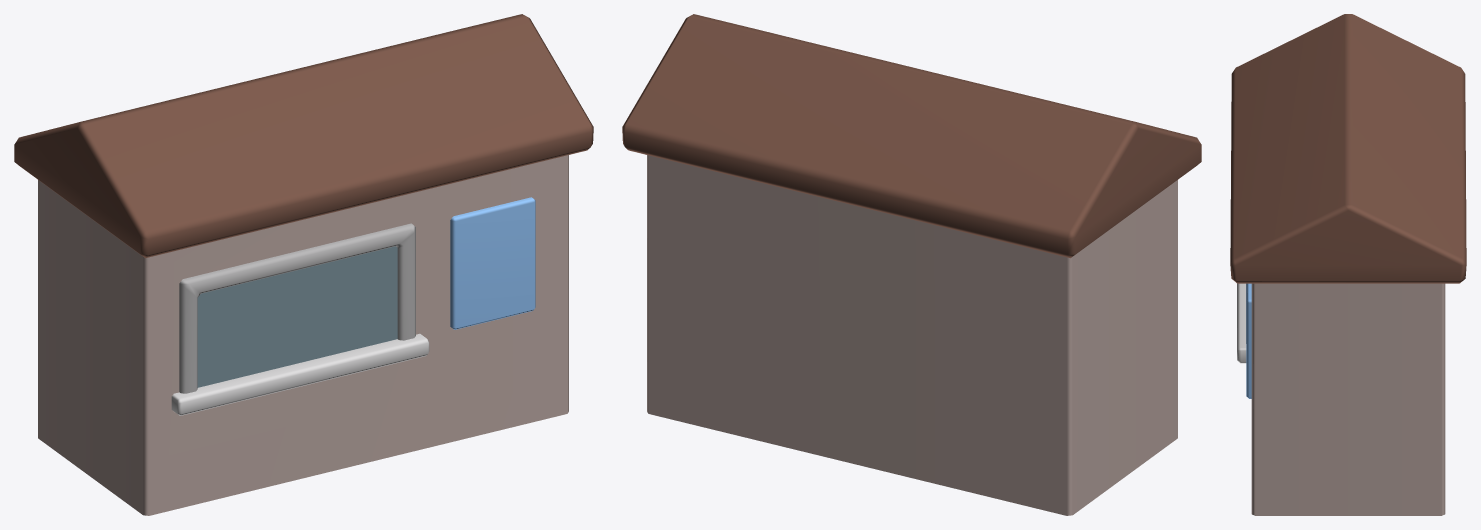
The model's file is ticket_stall_001.gltf.
3 renders of one model, left to right at view 1: azimuth 30°, elevation 25°; view 2: azimuth 150°, elevation 25°; view 3: azimuth 270°, elevation 25°, orthographic. The views are drawn at different scales.
Visible parts, largest first — view 1: ticket_stall_001; view 2: ticket_stall_001; view 3: ticket_stall_001.
Boxes of the visible parts, x1,y1,x2,y2 form: ticket_stall_001: (14, 14, 593, 515); ticket_stall_001: (622, 14, 1201, 515); ticket_stall_001: (1230, 14, 1466, 515).
Bounding box in the file's own units: 4.41 × 3.31 × 2.25.
1 material, 1 textured.
